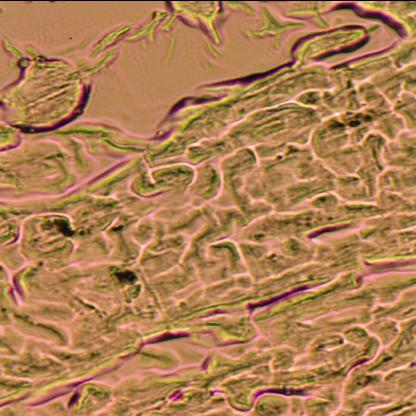Stage I: (2, 62, 416, 416)
